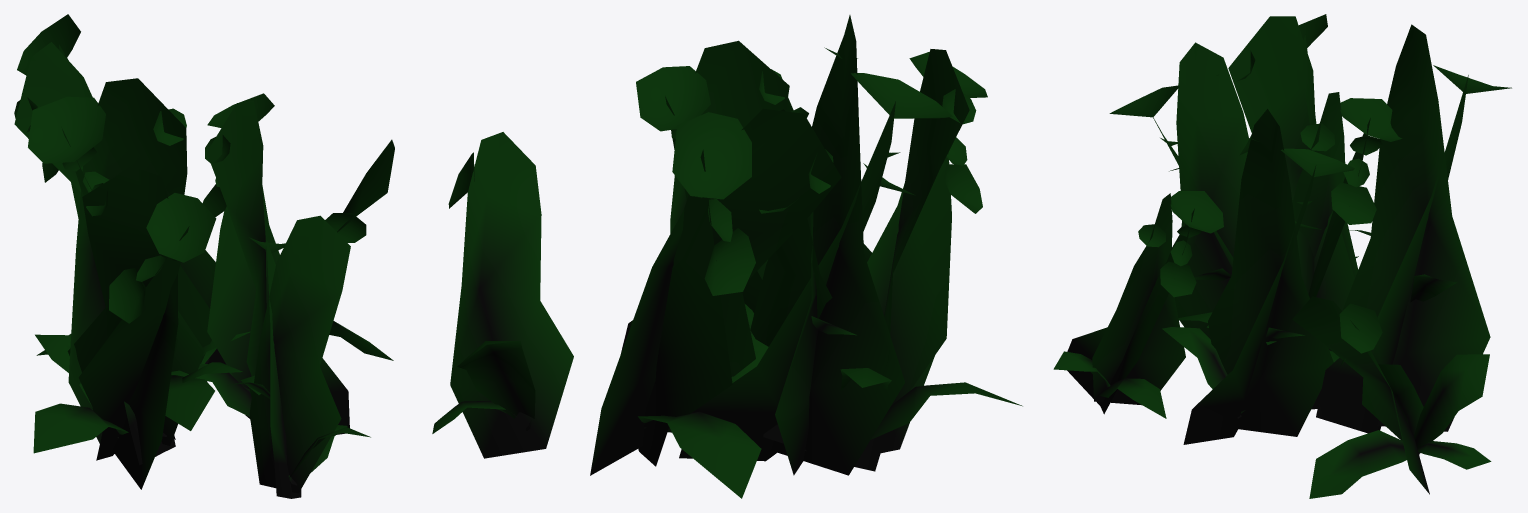
The model's file is FlowersDlionGCATA_D.fbx.
3 views of the same model, side by side, from view 1: azimuth 30°, elevation 25°; view 2: azimuth 150°, elevation 25°; view 3: azimuth 270°, elevation 25° (orthographic). The views are drawn at different scales.
Parts seen in each view (by area): view 1: FDGCATAD_LOD0; view 2: FDGCATAD_LOD0; view 3: FDGCATAD_LOD0.
Part boxes in pixels (x1,y1,x2,y2): FDGCATAD_LOD0: (14,14,394,498); FDGCATAD_LOD0: (432,15,1022,498); FDGCATAD_LOD0: (1053,14,1511,498).
Size of what is drawn, in the model's own units: 0.616 by 0.533 by 0.5914.
